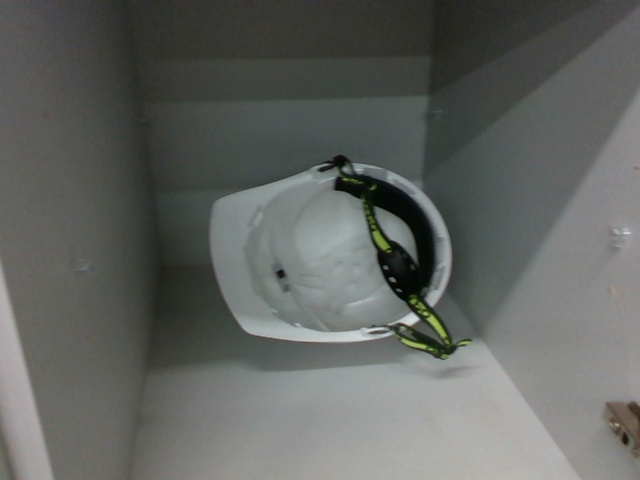helmet: (204, 157, 455, 347)
